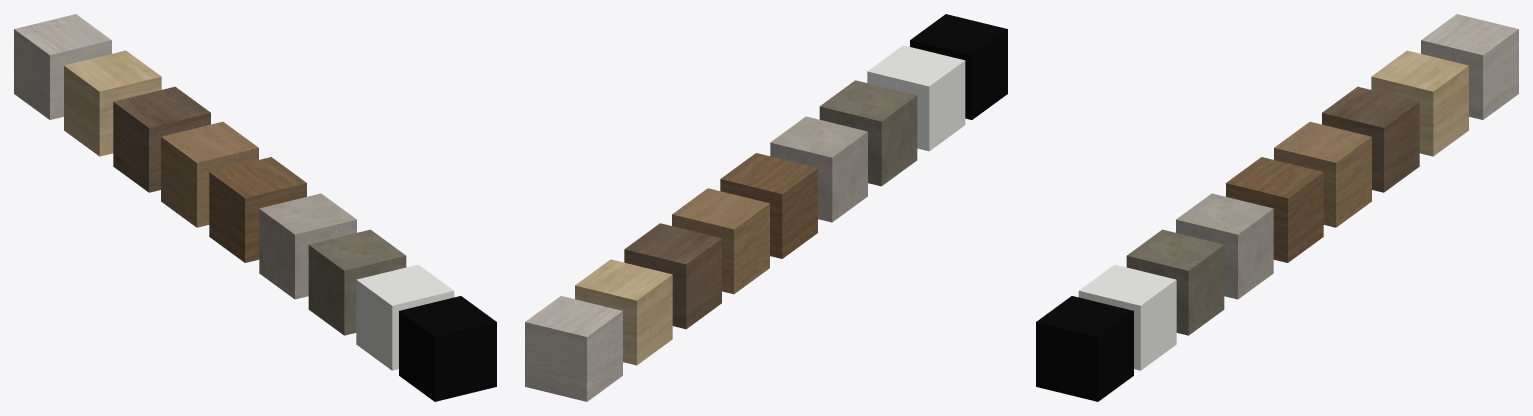
File: CUBES TEXTURES TEST.glb
3 views of the same model, side by side, from view 1: azimuth 30°, elevation 25°; view 2: azimuth 150°, elevation 25°; view 3: azimuth 330°, elevation 25° (orthographic).
Visible parts, largest first — view 1: Cube.008, Cube.007, Cube, Cube.006, Cube.001, Cube.003, Cube.005, Cube.002, Cube.004; view 2: Cube, Cube.001, Cube.006, Cube.005, Cube.002, Cube.004, Cube.007, Cube.003, Cube.008; view 3: Cube.008, Cube.007, Cube, Cube.006, Cube.001, Cube.003, Cube.005, Cube.002, Cube.004.
Part boxes in pixels (x1,y1,x2,y2): Cube.008: [399, 296, 496, 401]; Cube.007: [209, 157, 306, 262]; Cube: [14, 14, 111, 119]; Cube.006: [259, 193, 356, 299]; Cube.001: [64, 50, 161, 156]; Cube.003: [161, 121, 258, 227]; Cube.005: [308, 229, 406, 335]; Cube.002: [113, 86, 210, 192]; Cube.004: [356, 264, 454, 370]; Cube: [525, 296, 622, 401]; Cube.001: [575, 259, 672, 365]; Cube.006: [770, 116, 867, 222]; Cube.005: [819, 80, 917, 186]; Cube.002: [624, 223, 721, 329]; Cube.004: [867, 45, 965, 151]; Cube.007: [720, 153, 817, 258]; Cube.003: [672, 188, 769, 294]; Cube.008: [910, 14, 1007, 119]; Cube.008: [1036, 296, 1133, 401]; Cube.007: [1226, 157, 1323, 262]; Cube: [1421, 14, 1518, 119]; Cube.006: [1176, 193, 1273, 299]; Cube.001: [1371, 50, 1468, 156]; Cube.003: [1274, 121, 1371, 227]; Cube.005: [1126, 229, 1224, 335]; Cube.002: [1322, 86, 1419, 192]; Cube.004: [1078, 264, 1176, 370].
Bounding box in the file's own units: 0.5428 × 0.5428 × 6.38.
Materials: 9 (8 with a texture image).
